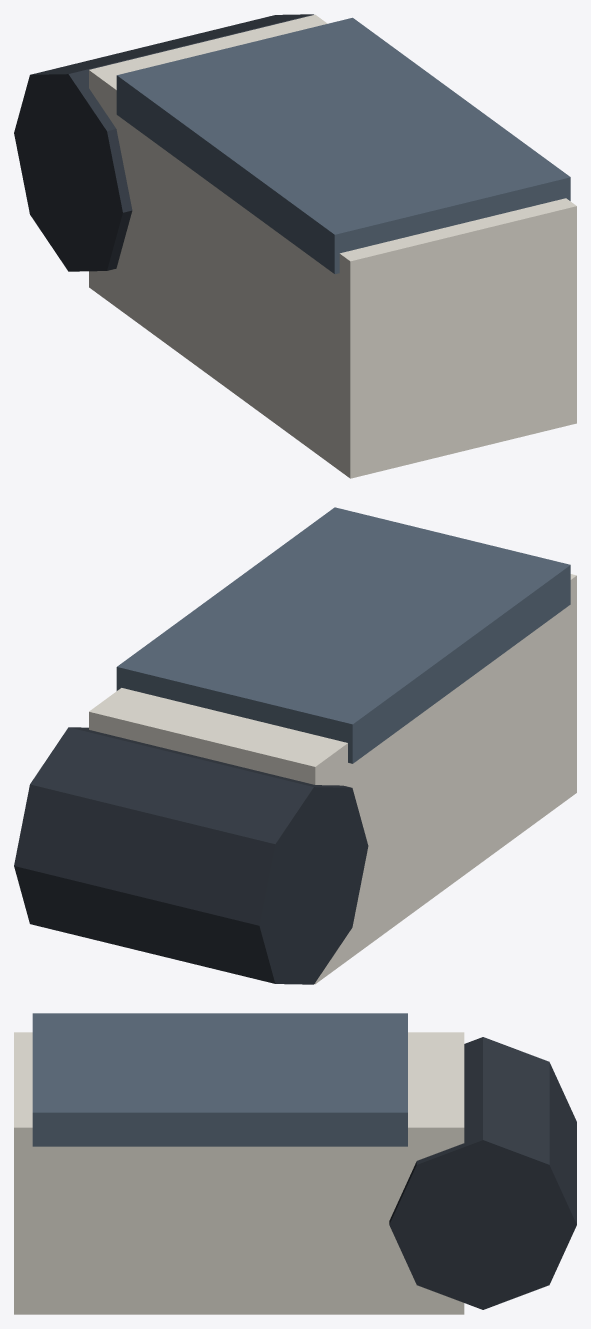
The model's file is robot_finger_segment.glb.
3 renders of one model, top to bottom at view 1: azimuth 30°, elevation 25°; view 2: azimuth 150°, elevation 25°; view 3: azimuth 270°, elevation 25°, orthographic. The views are drawn at different scales.
Visible parts, largest first — view 1: robot_finger_segment_armor, robot_finger_segment_steel, robot_finger_segment_steelDark; view 2: robot_finger_segment_steelDark, robot_finger_segment_steel, robot_finger_segment_armor; view 3: robot_finger_segment_armor, robot_finger_segment_steel, robot_finger_segment_steelDark.
Part boxes in pixels (left/top/right/bottom): robot_finger_segment_armor: left=89, top=14, right=576, bottom=478; robot_finger_segment_steel: left=116, top=17, right=570, bottom=274; robot_finger_segment_steelDark: left=14, top=14, right=313, bottom=271; robot_finger_segment_steelDark: left=14, top=727, right=368, bottom=984; robot_finger_segment_steel: left=116, top=507, right=570, bottom=763; robot_finger_segment_armor: left=89, top=574, right=576, bottom=984; robot_finger_segment_armor: left=14, top=1032, right=464, bottom=1314; robot_finger_segment_steel: left=32, top=1013, right=407, bottom=1146; robot_finger_segment_steelDark: left=389, top=1037, right=576, bottom=1309.
Bounding box in the file's own units: 1.3 × 1.2 × 3.
